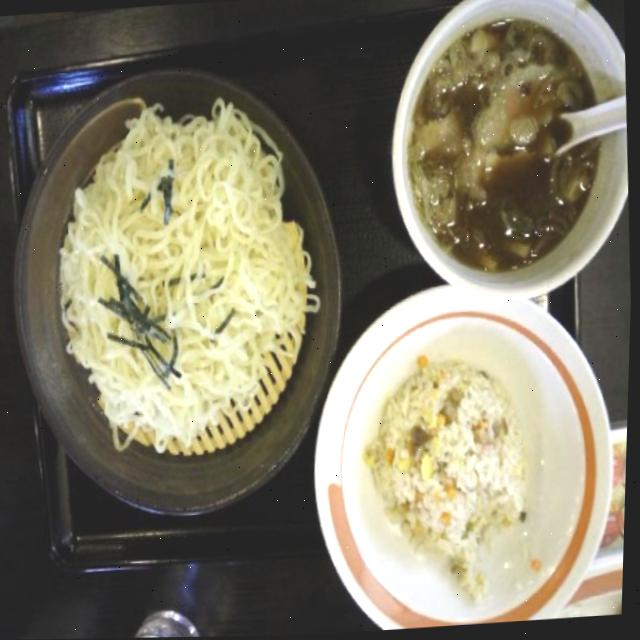米饭主食: (309, 280, 633, 632)
面条主食: (0, 43, 370, 540), (362, 0, 637, 312)
